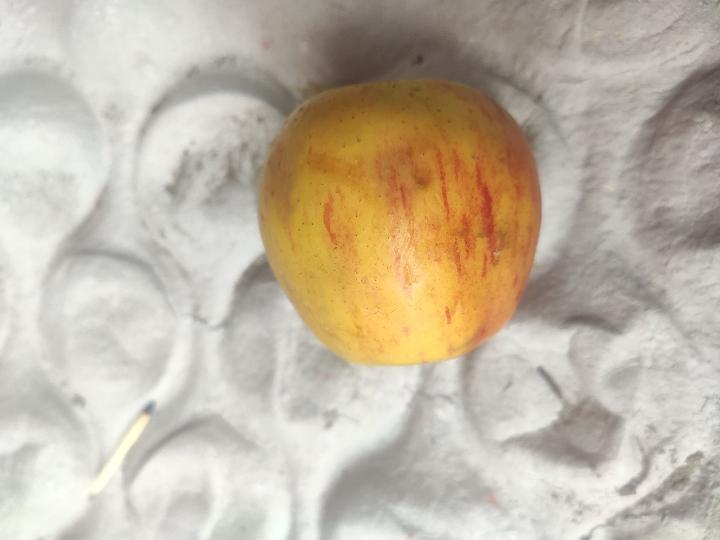apple: (258, 79, 541, 365)
bruise_discoloration: (305, 139, 515, 288)
